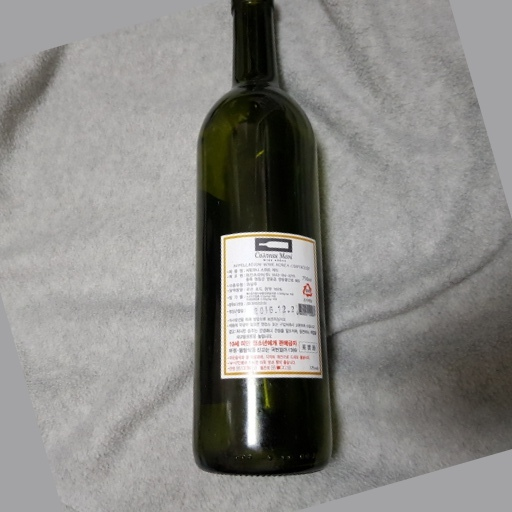Glass_2: (185, 1, 340, 478)
